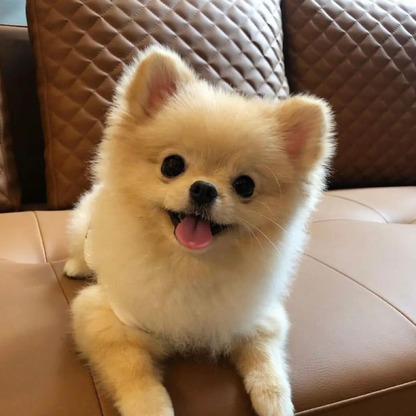Pomeranian: (68, 37, 353, 402)
